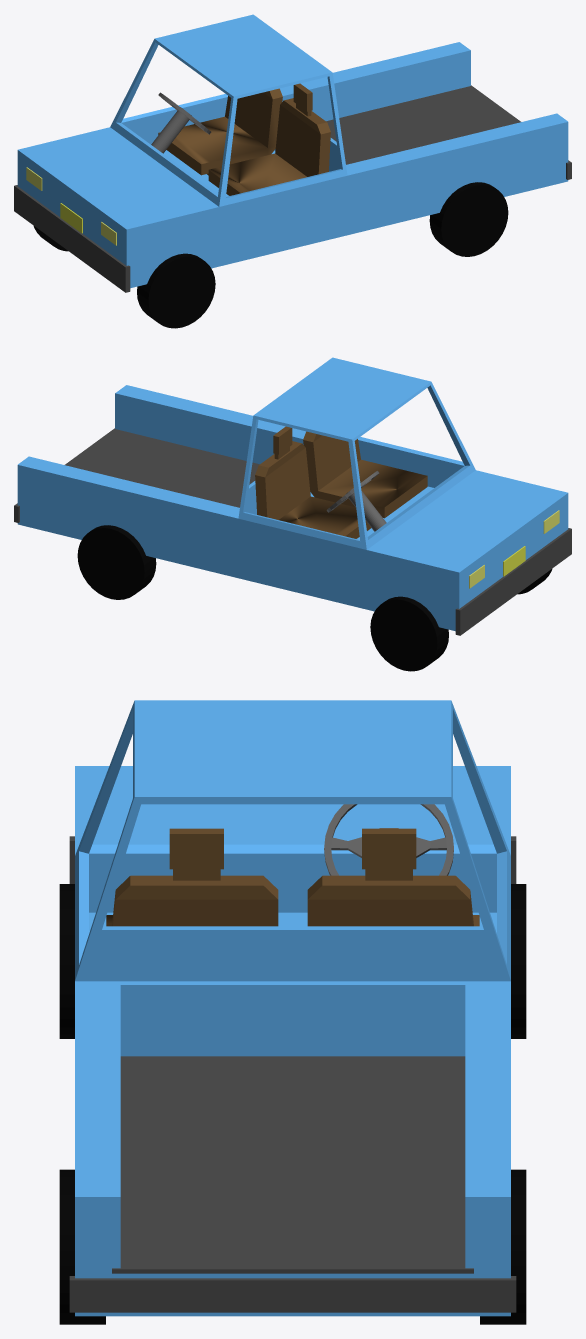
Rendered from truck.fbx.
3 views of the same model, one above another, from view 1: azimuth 30°, elevation 25°; view 2: azimuth 150°, elevation 25°; view 3: azimuth 270°, elevation 25° (orthographic). The views are drawn at different scales.
Visible parts, largest first — view 1: Truck, seats, Bumpers, Wheels, Circle.002, lights.001; view 2: Truck, Bumpers, seats, Wheels, Circle.002, lights.001; view 3: Truck, Bumpers, seats, Wheels, Circle.002.
Part boxes in pixels (left/top/right/bottom): Truck: left=17, top=14, right=568, bottom=288; seats: left=158, top=83, right=330, bottom=195; Bumpers: left=14, top=85, right=571, bottom=292; Wheels: left=33, top=182, right=508, bottom=328; Circle.002: left=151, top=92, right=211, bottom=153; lights.001: left=26, top=167, right=116, bottom=245; Truck: left=17, top=357, right=568, bottom=631; Bumpers: left=14, top=428, right=571, bottom=635; seats: left=255, top=426, right=427, bottom=538; Wheels: left=77, top=525, right=552, bottom=671; Circle.002: left=326, top=471, right=386, bottom=531; lights.001: left=469, top=510, right=559, bottom=588; Truck: left=75, top=700, right=510, bottom=1316; Bumpers: left=69, top=836, right=516, bottom=1312; seats: left=106, top=828, right=479, bottom=926; Wheels: left=59, top=884, right=526, bottom=1324; Circle.002: left=324, top=804, right=453, bottom=875.
Size of the model in its own units: 191 by 81.66 by 86.38.
